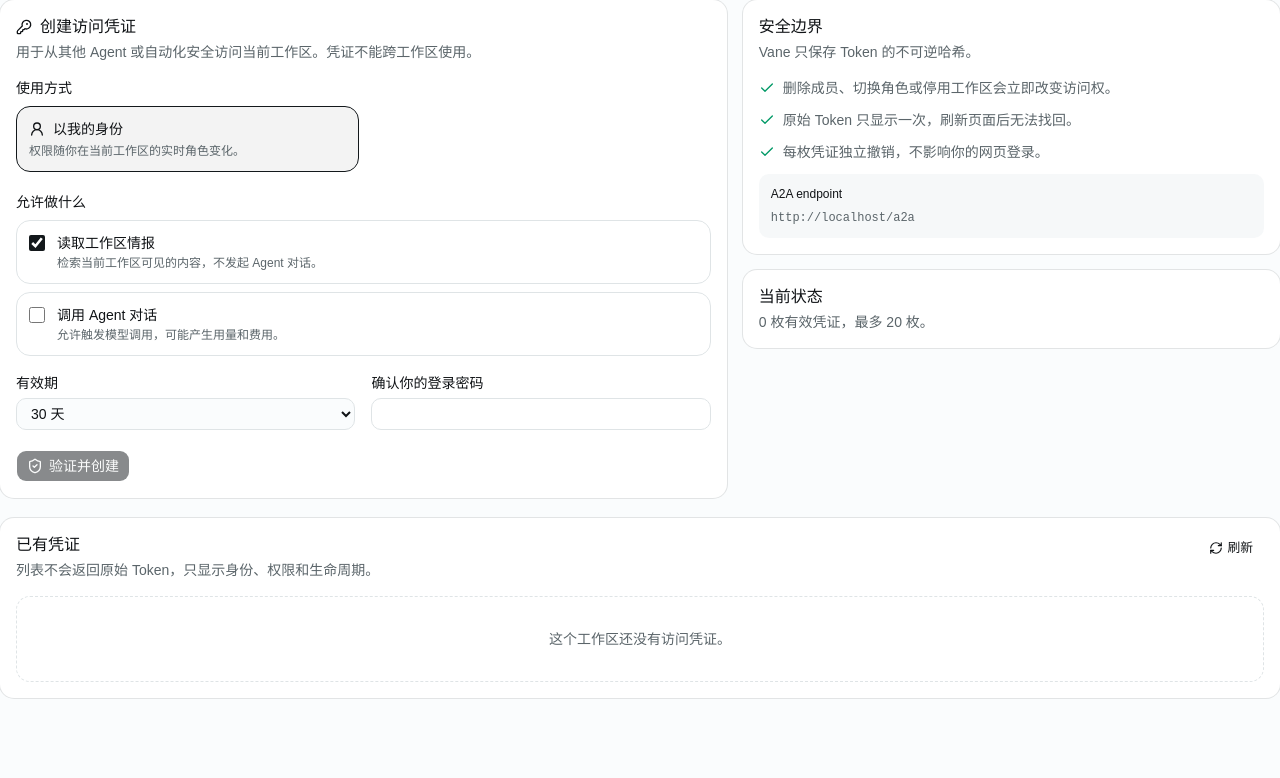
Scenario: A2A credential management › creates a least-privilege personal token after session-bound reauthentication and displays it once
Expected: the text "这个工作区还没有访问凭证。" is shown, [16,596,1264,682]
Type "correct horse" into the password field labelled "确认你的登录密码" at (541, 414), box [371,398,711,430]
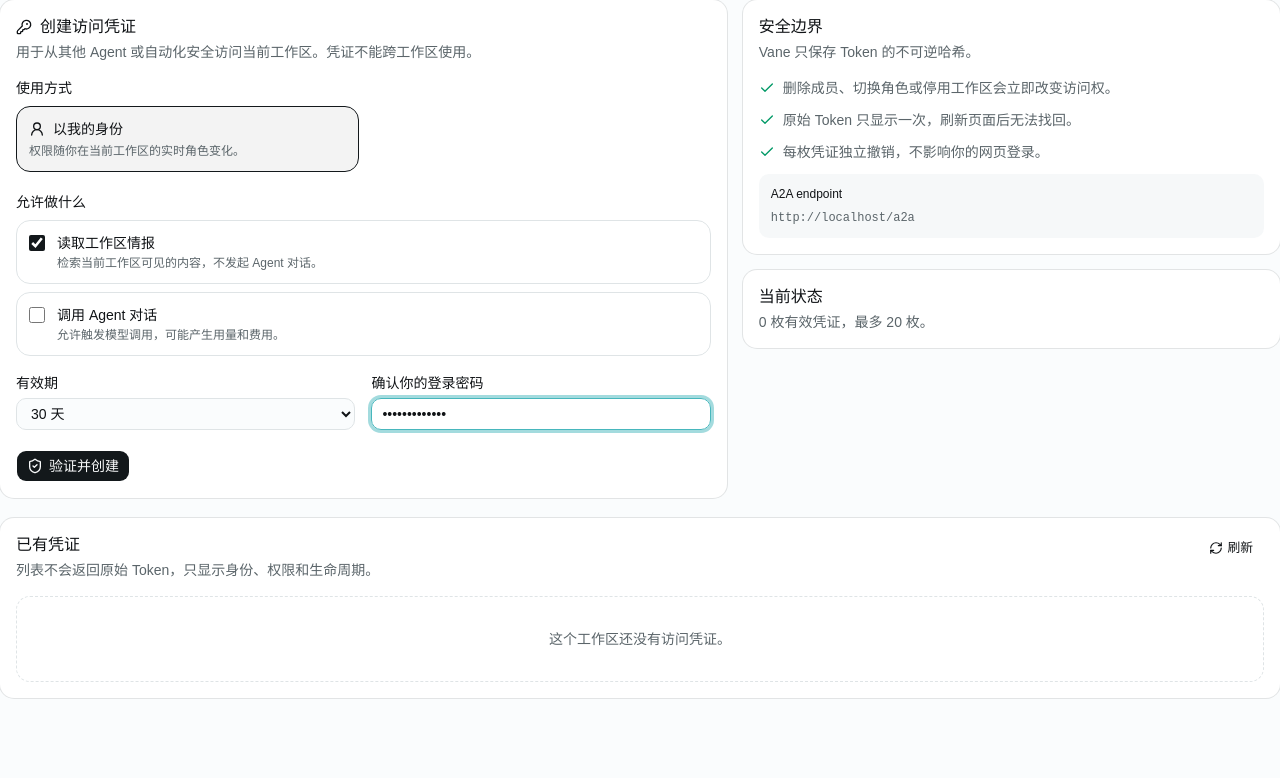
Click the button "验证并创建" at (73, 466), box [16,450,130,482]
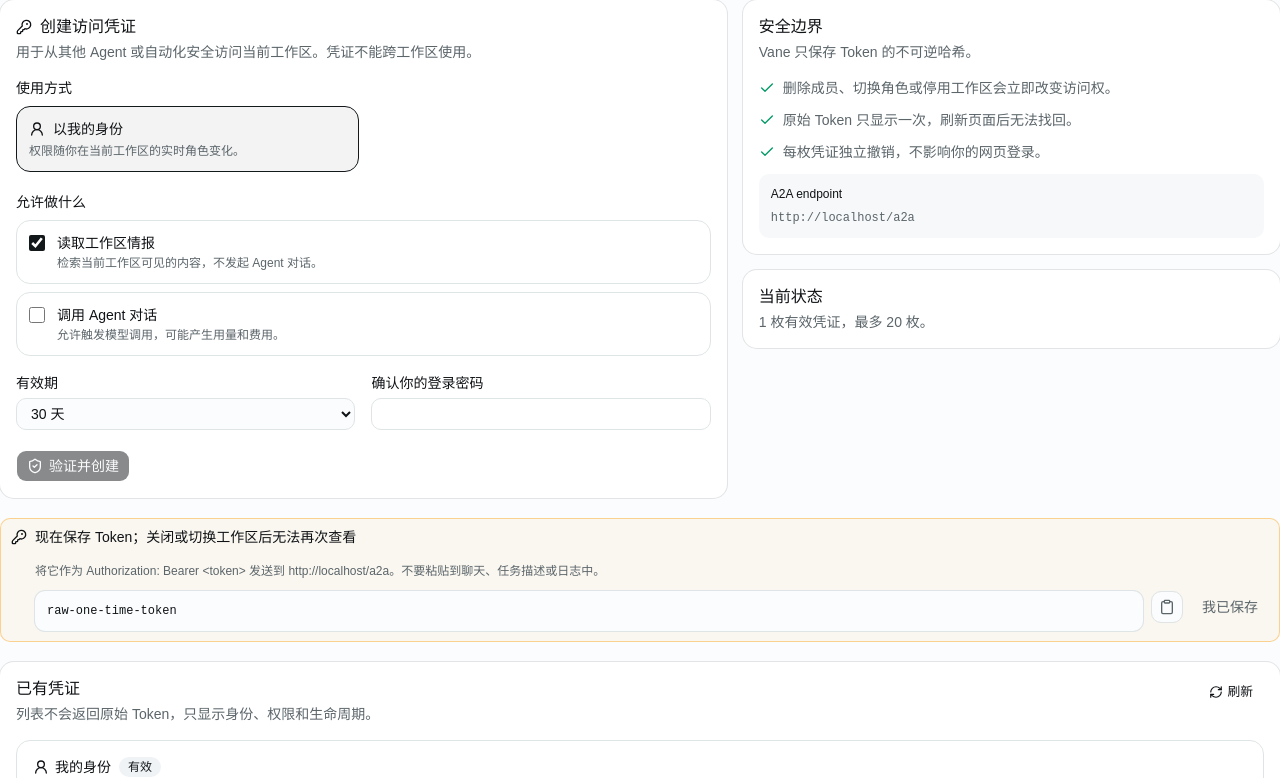
Result: the text with test id "one-time-a2a-token" reads "raw-one-time-token" at [47,604,177,618]
Result: the password field labelled "确认你的登录密码" is empty at [371,398,711,430]
Click the button named "复制 Token" at (1167, 607), box [1151,591,1183,623]
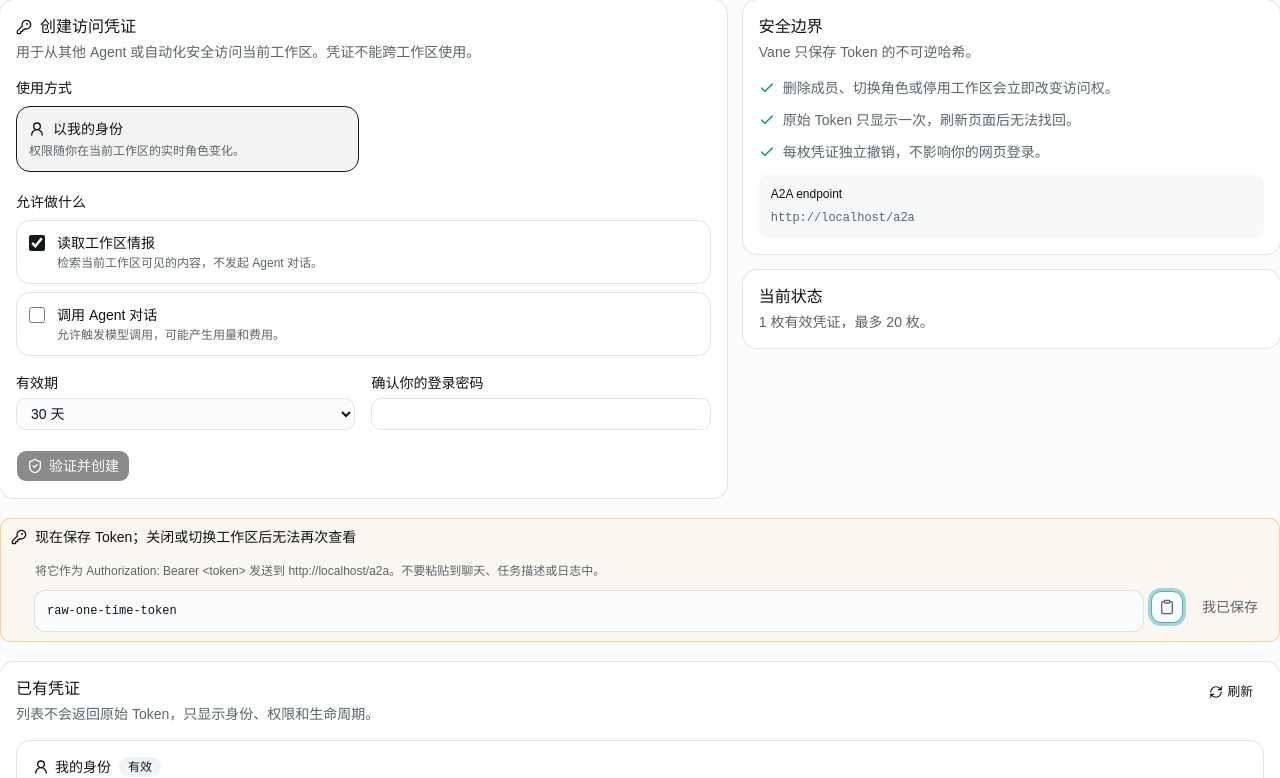
Click the button "我已保存" at (1230, 607), box [1191,591,1269,623]
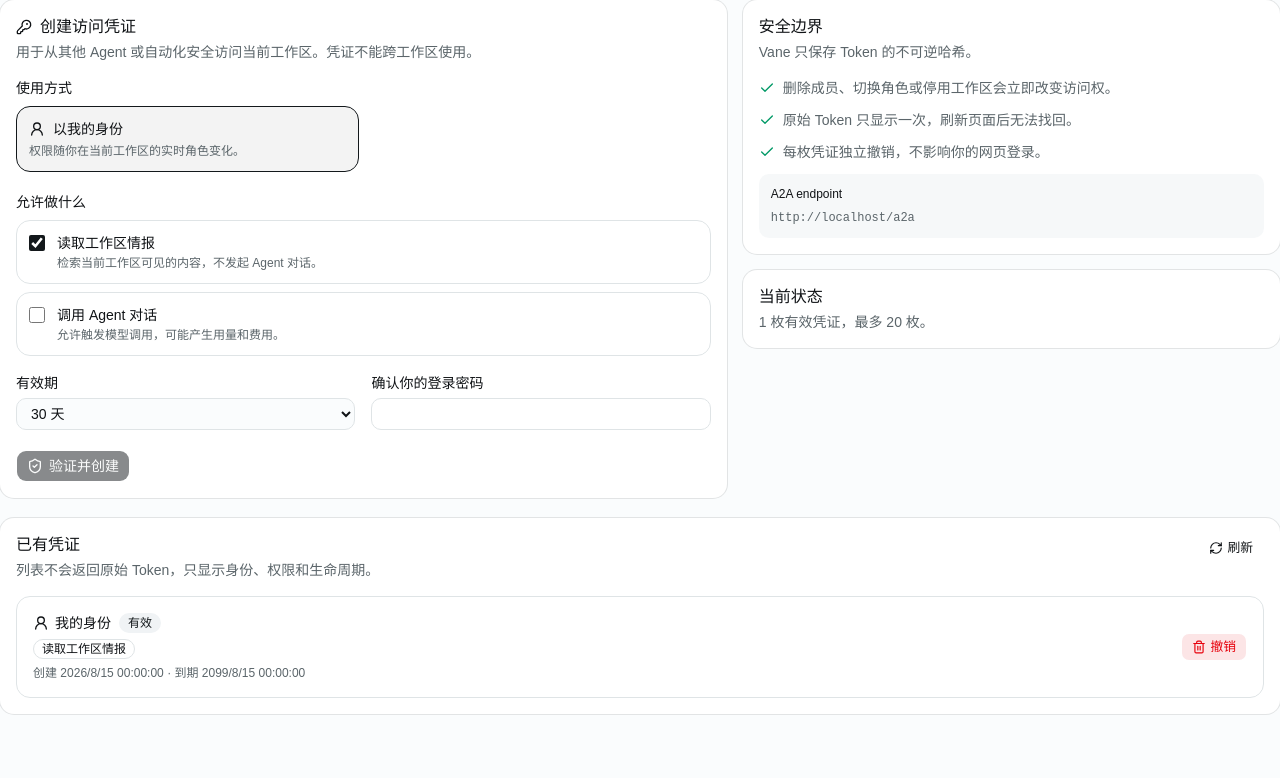
Result: the text with test id "one-time-a2a-token" is gone
